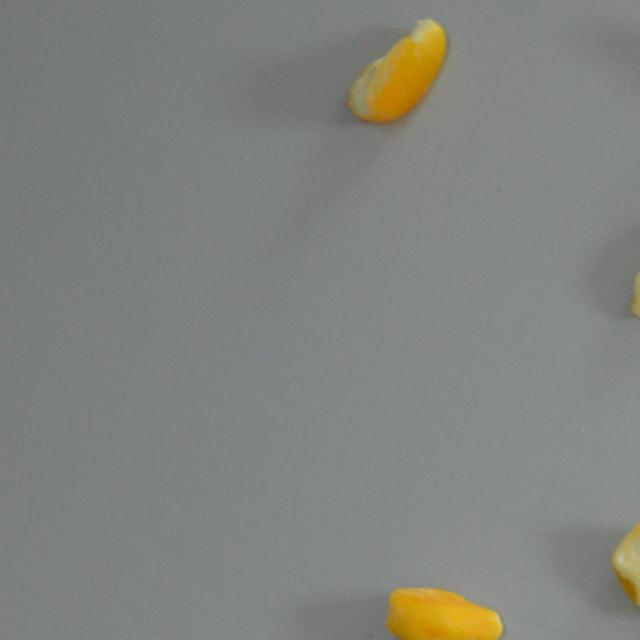estandar: (344, 19, 460, 124), (386, 566, 502, 640)
punto_negro: (612, 509, 640, 619), (628, 206, 640, 326)
